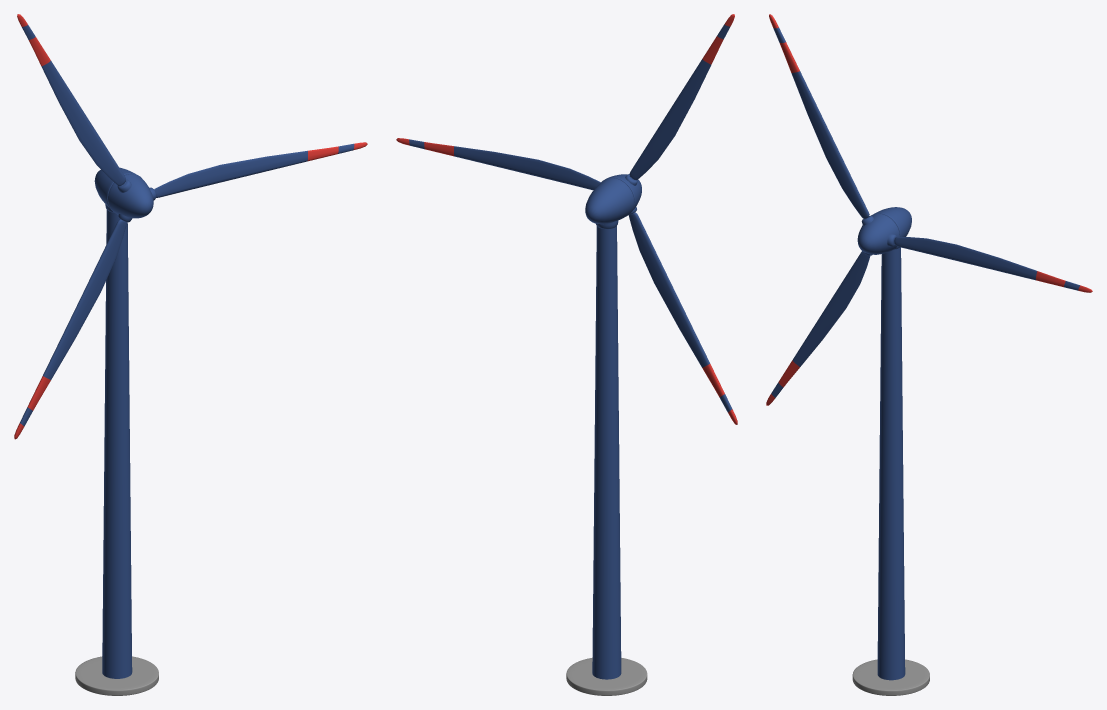
File: wind.glb
3 renders of one model, left to right at view 1: azimuth 30°, elevation 25°; view 2: azimuth 150°, elevation 25°; view 3: azimuth 330°, elevation 25°, orthographic. The views are drawn at different scales.
Visible parts, largest first — view 1: still, rotate; view 2: still, rotate; view 3: still, rotate.
Boxes of the visible parts, x1=… form: still: x1=75, y1=167, x2=158, y2=695; rotate: x1=14, y1=14, x2=367, y2=439; still: x1=566, y1=178, x2=647, y2=695; rotate: x1=396, y1=14, x2=737, y2=424; still: x1=852, y1=207, x2=929, y2=695; rotate: x1=766, y1=14, x2=1092, y2=405.
Bounding box in the file's own units: 42.03 × 80.1 × 10.52.
